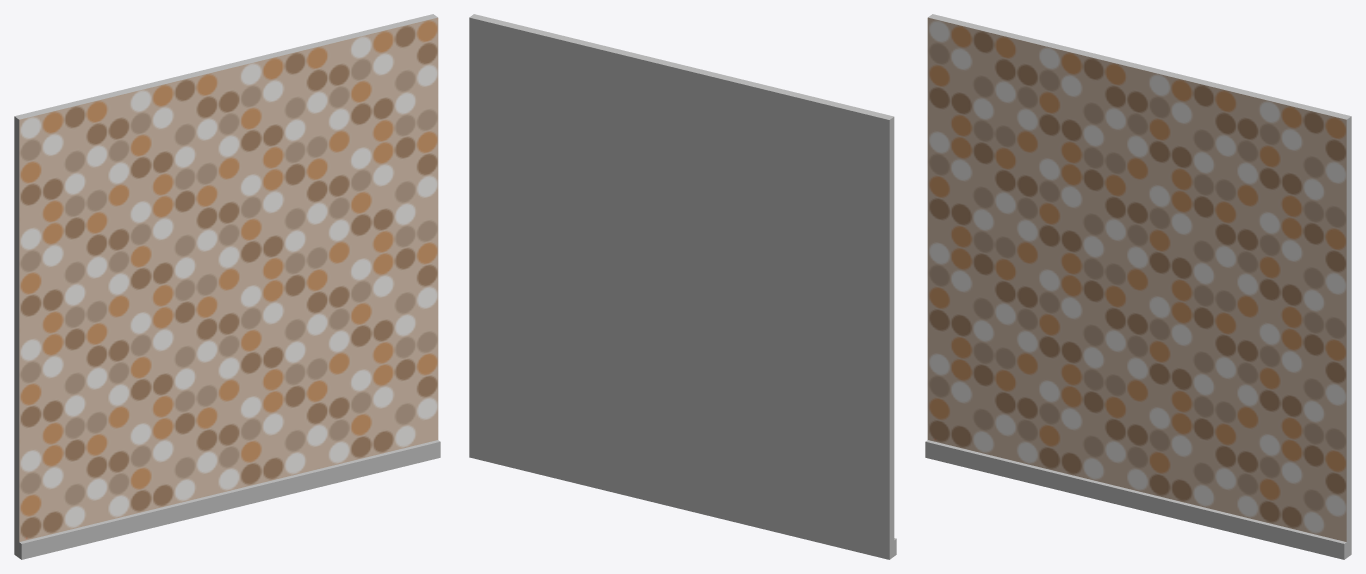
Rendered from Wall_WP_06.FBX.
The picture shows the model from 3 angles, left to right: view 1: azimuth 30°, elevation 25°; view 2: azimuth 150°, elevation 25°; view 3: azimuth 330°, elevation 25°; orthographic projection.
Parts seen in each view (by area): view 1: Wall_WP_01_5m; view 2: Wall_WP_01_5m; view 3: Wall_WP_01_5m.
Part boxes in pixels (x1=…): Wall_WP_01_5m: x1=14, y1=14, x2=440, y2=559; Wall_WP_01_5m: x1=469, y1=14, x2=896, y2=559; Wall_WP_01_5m: x1=925, y1=14, x2=1351, y2=559.
Bounding box in the file's own units: 19685 × 19685 × 591.
